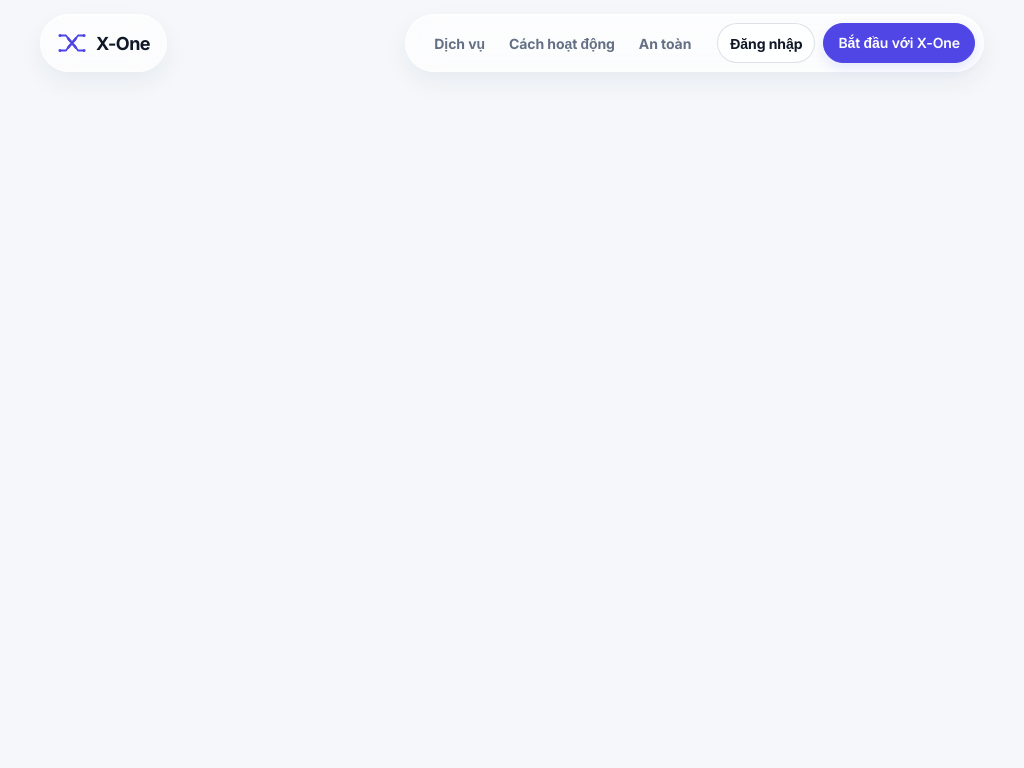
Test case: marketing authentication dialog › opens Login from the marketing header
This screenshot has width=1024, height=768.
Expected: the element with class "brandIsland" is shown, [40,14,167,72]
Expected: the element with class "navIsland" is shown, [405,14,984,72]
Click the button "Đăng nhập" at (766, 43), box [717,23,815,63]
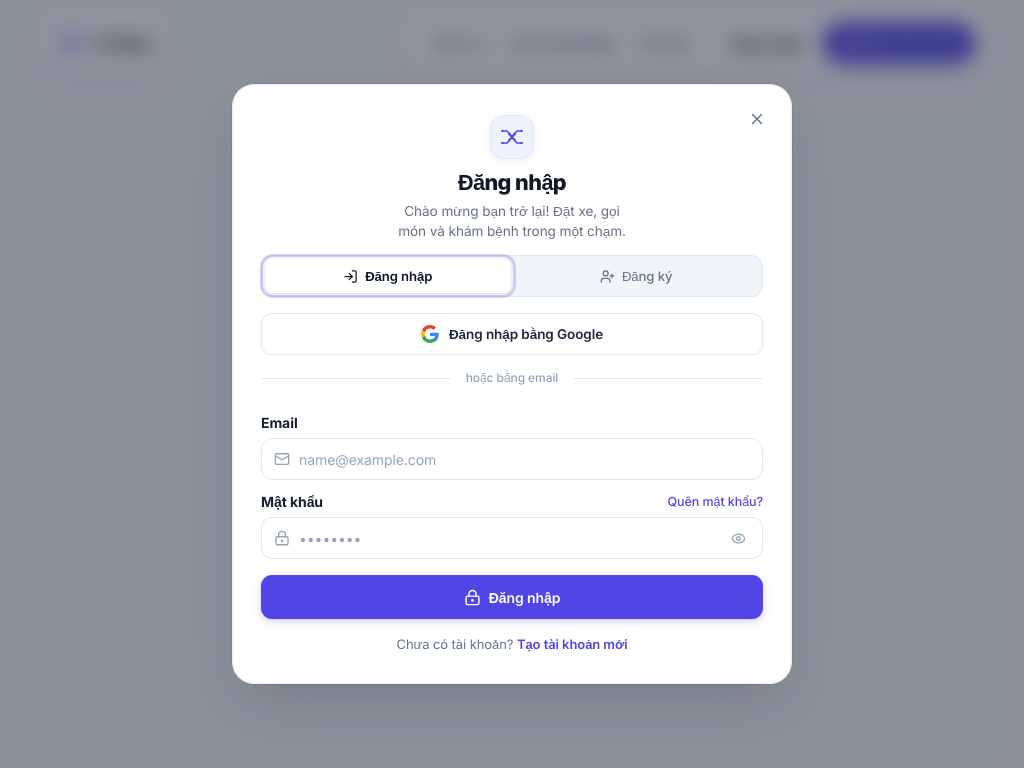
Now the dialog is shown, box [232,84,792,684]
Now the heading "Đăng nhập" is shown, box [458,169,566,196]
Now the field labelled "Email" is shown, box [299,439,752,479]
